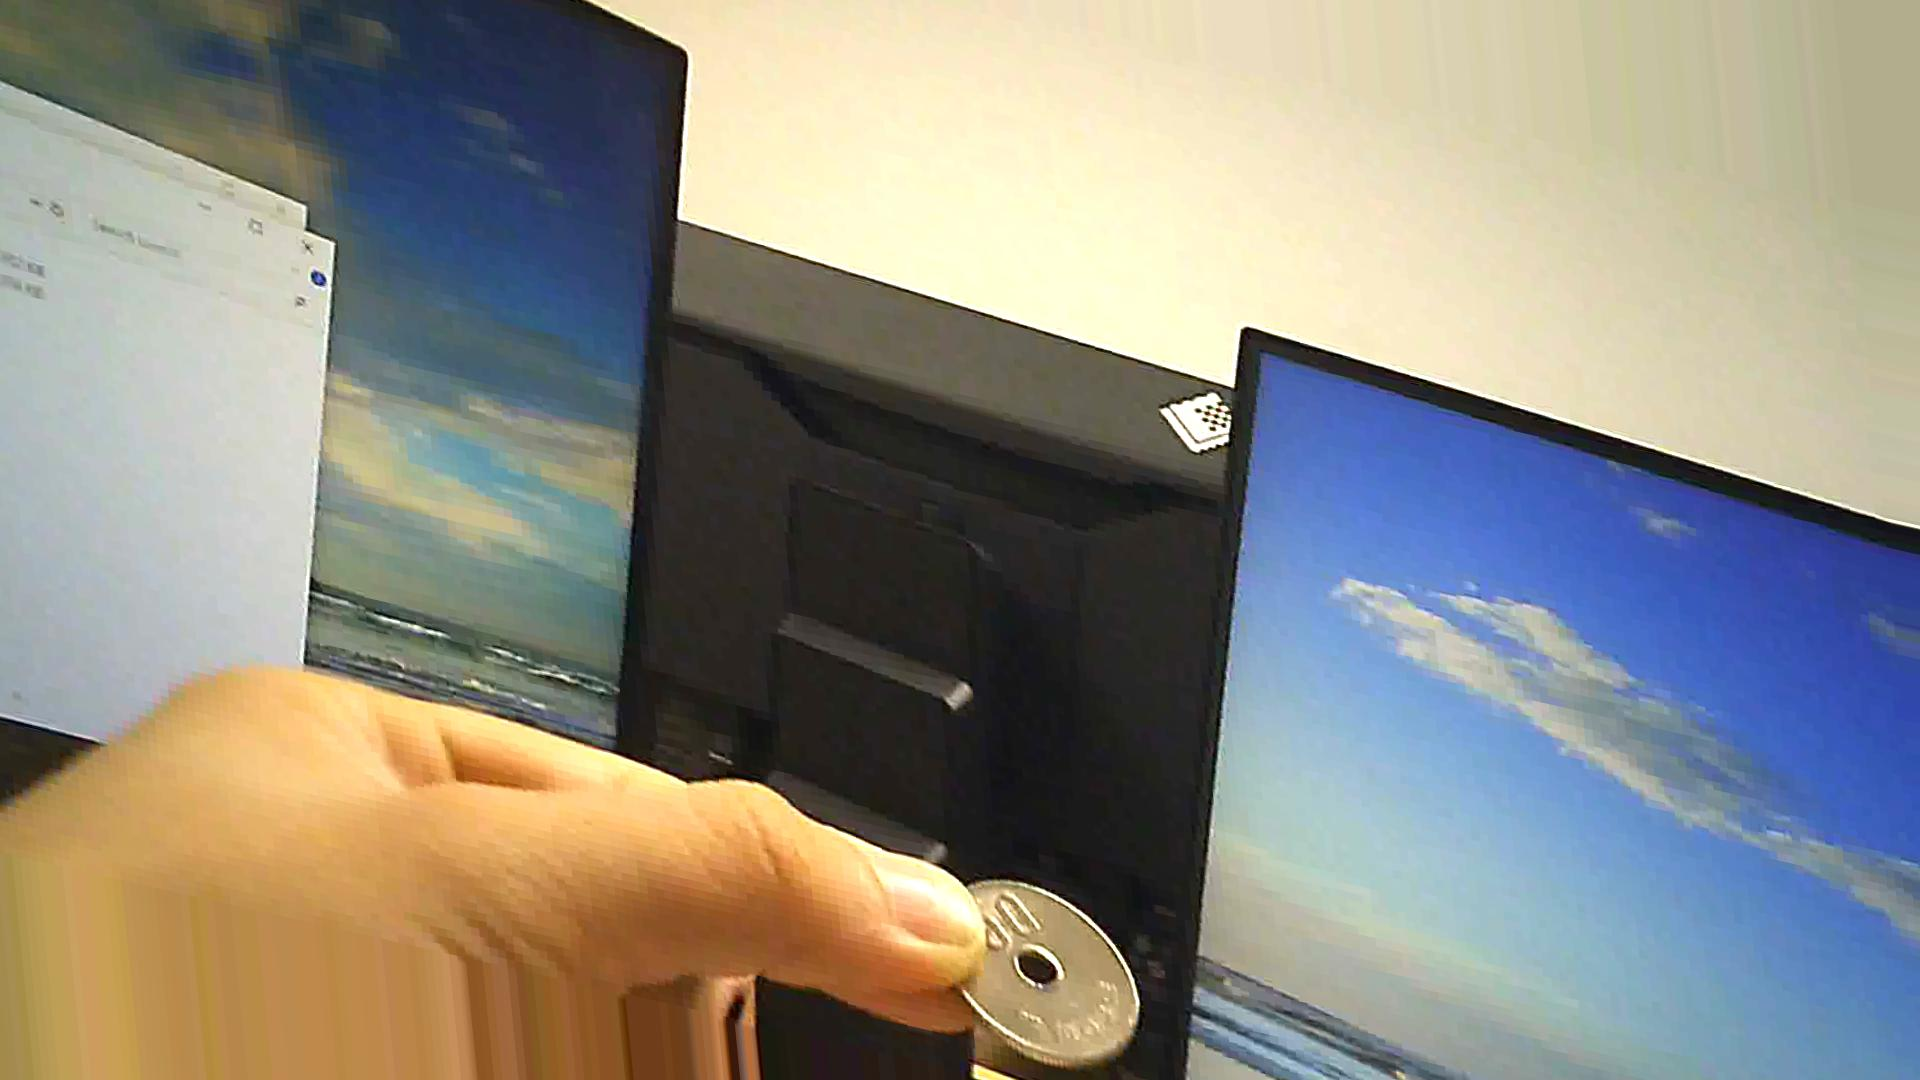50 Yen: (922, 860, 1160, 1069)
